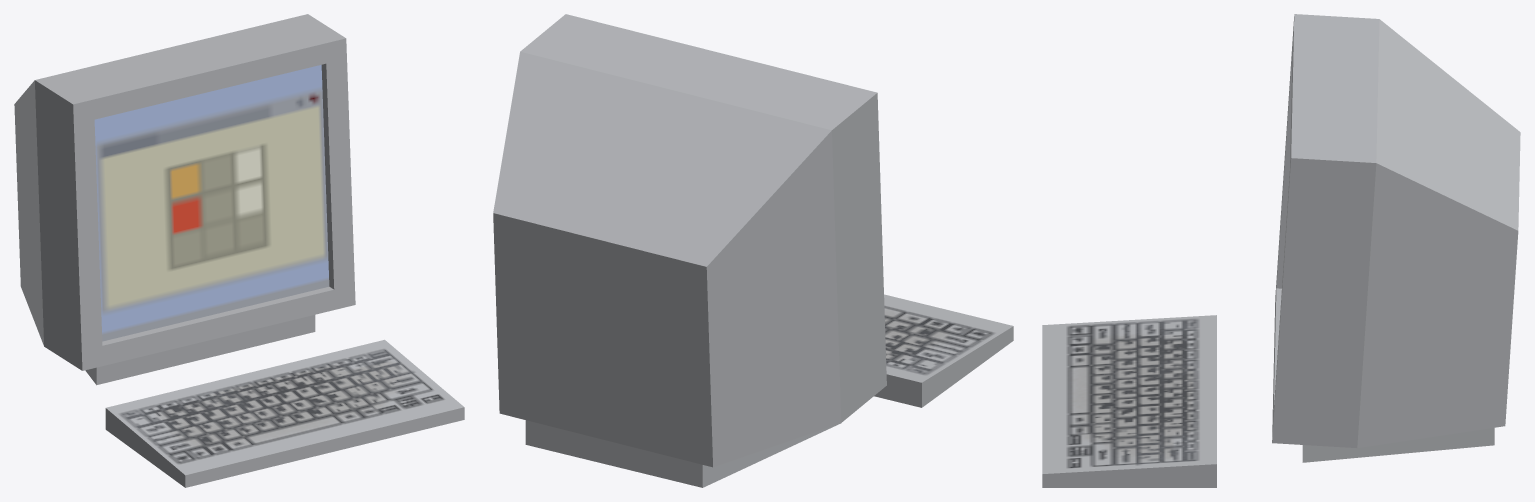
Rendered from computer 2.fbx.
3 views of the same model, side by side, from view 1: azimuth 30°, elevation 25°; view 2: azimuth 150°, elevation 25°; view 3: azimuth 270°, elevation 25° (orthographic). The views are drawn at different scales.
Visible parts, largest first — view 1: Cube.005, Cube.007, Cube.006; view 2: Cube.005, Cube.007, Cube.006; view 3: Cube.005, Cube.007, Cube.006.
Part boxes in pixels (x1,y1,x2,y2): Cube.005: (14,14,355,370); Cube.007: (105,339,464,487); Cube.006: (85,315,315,385); Cube.005: (493,14,886,467); Cube.007: (874,294,1013,407); Cube.006: (525,420,841,487); Cube.005: (1272,14,1520,448); Cube.007: (1042,315,1216,487); Cube.006: (1302,428,1494,462).
Bounding box in the file's own units: 96.57 × 98.95 × 131.
